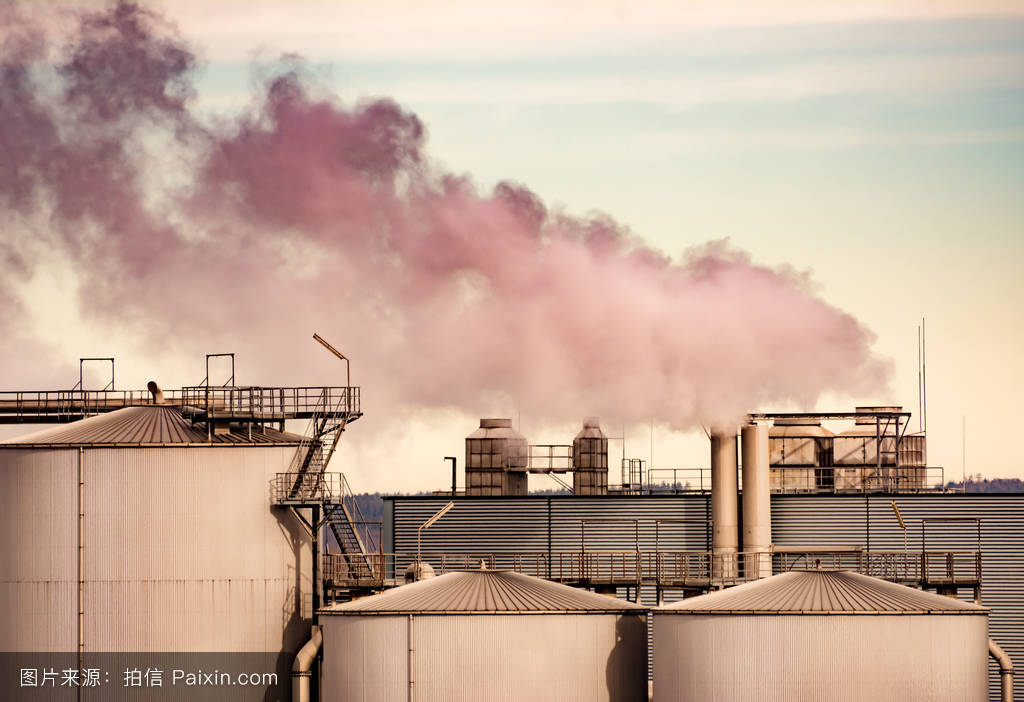dust: (459, 242, 803, 452), (682, 256, 921, 431)
